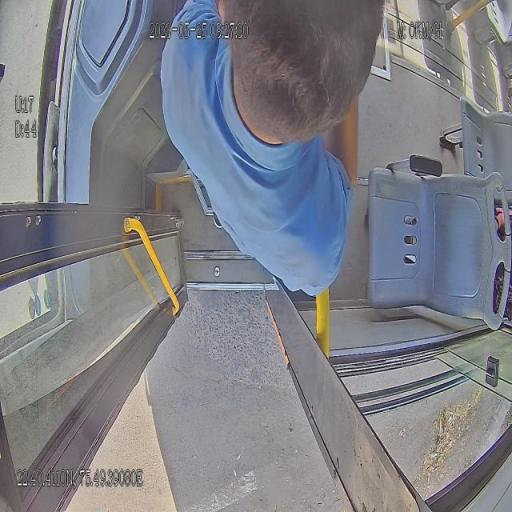persona: (159, 0, 386, 298)
